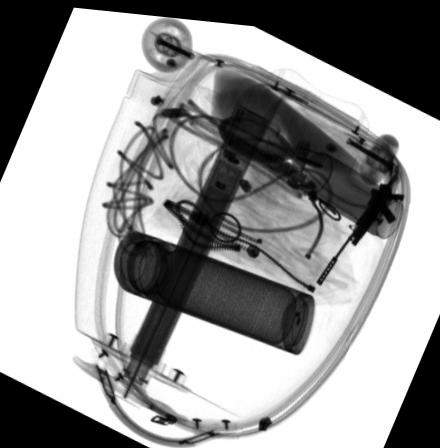Gun: (312, 165, 405, 283)
